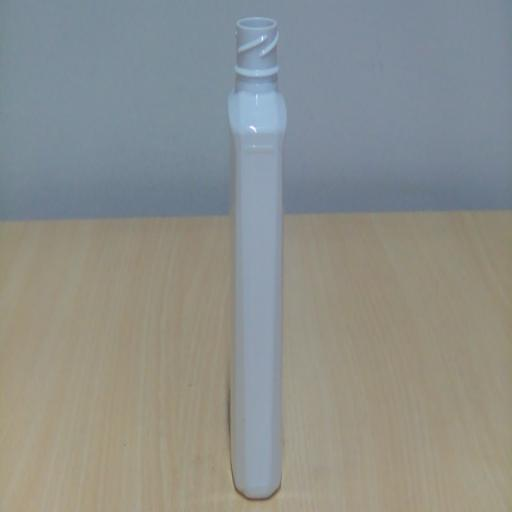Good: (219, 7, 300, 508)
